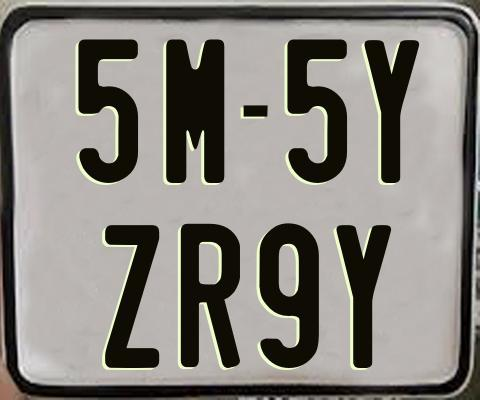5: (76, 39, 139, 184), (284, 37, 345, 182)
9: (258, 223, 319, 368)
M: (165, 37, 229, 185)
R: (179, 221, 243, 370)
Y: (361, 38, 418, 184), (335, 225, 391, 371)
Z: (104, 224, 159, 369)
